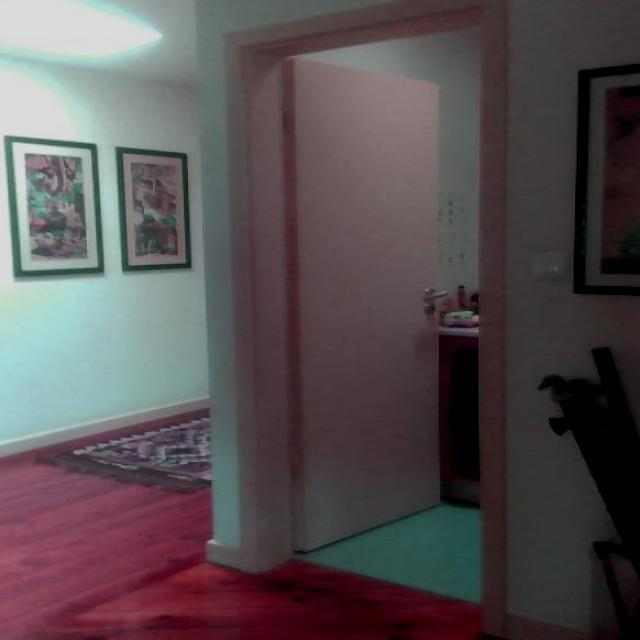door: (285, 56, 443, 553)
